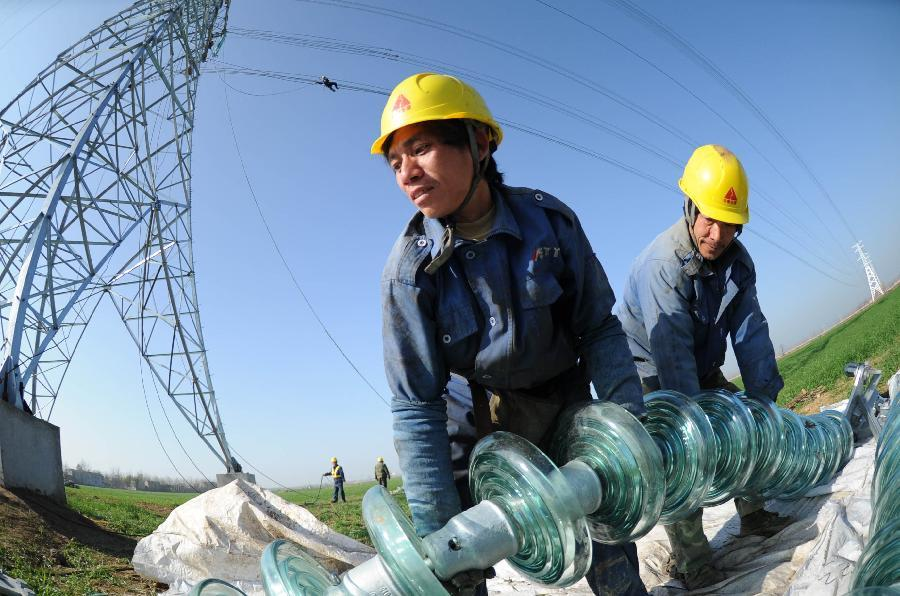helmet: (375, 72, 509, 158), (680, 147, 751, 228)
